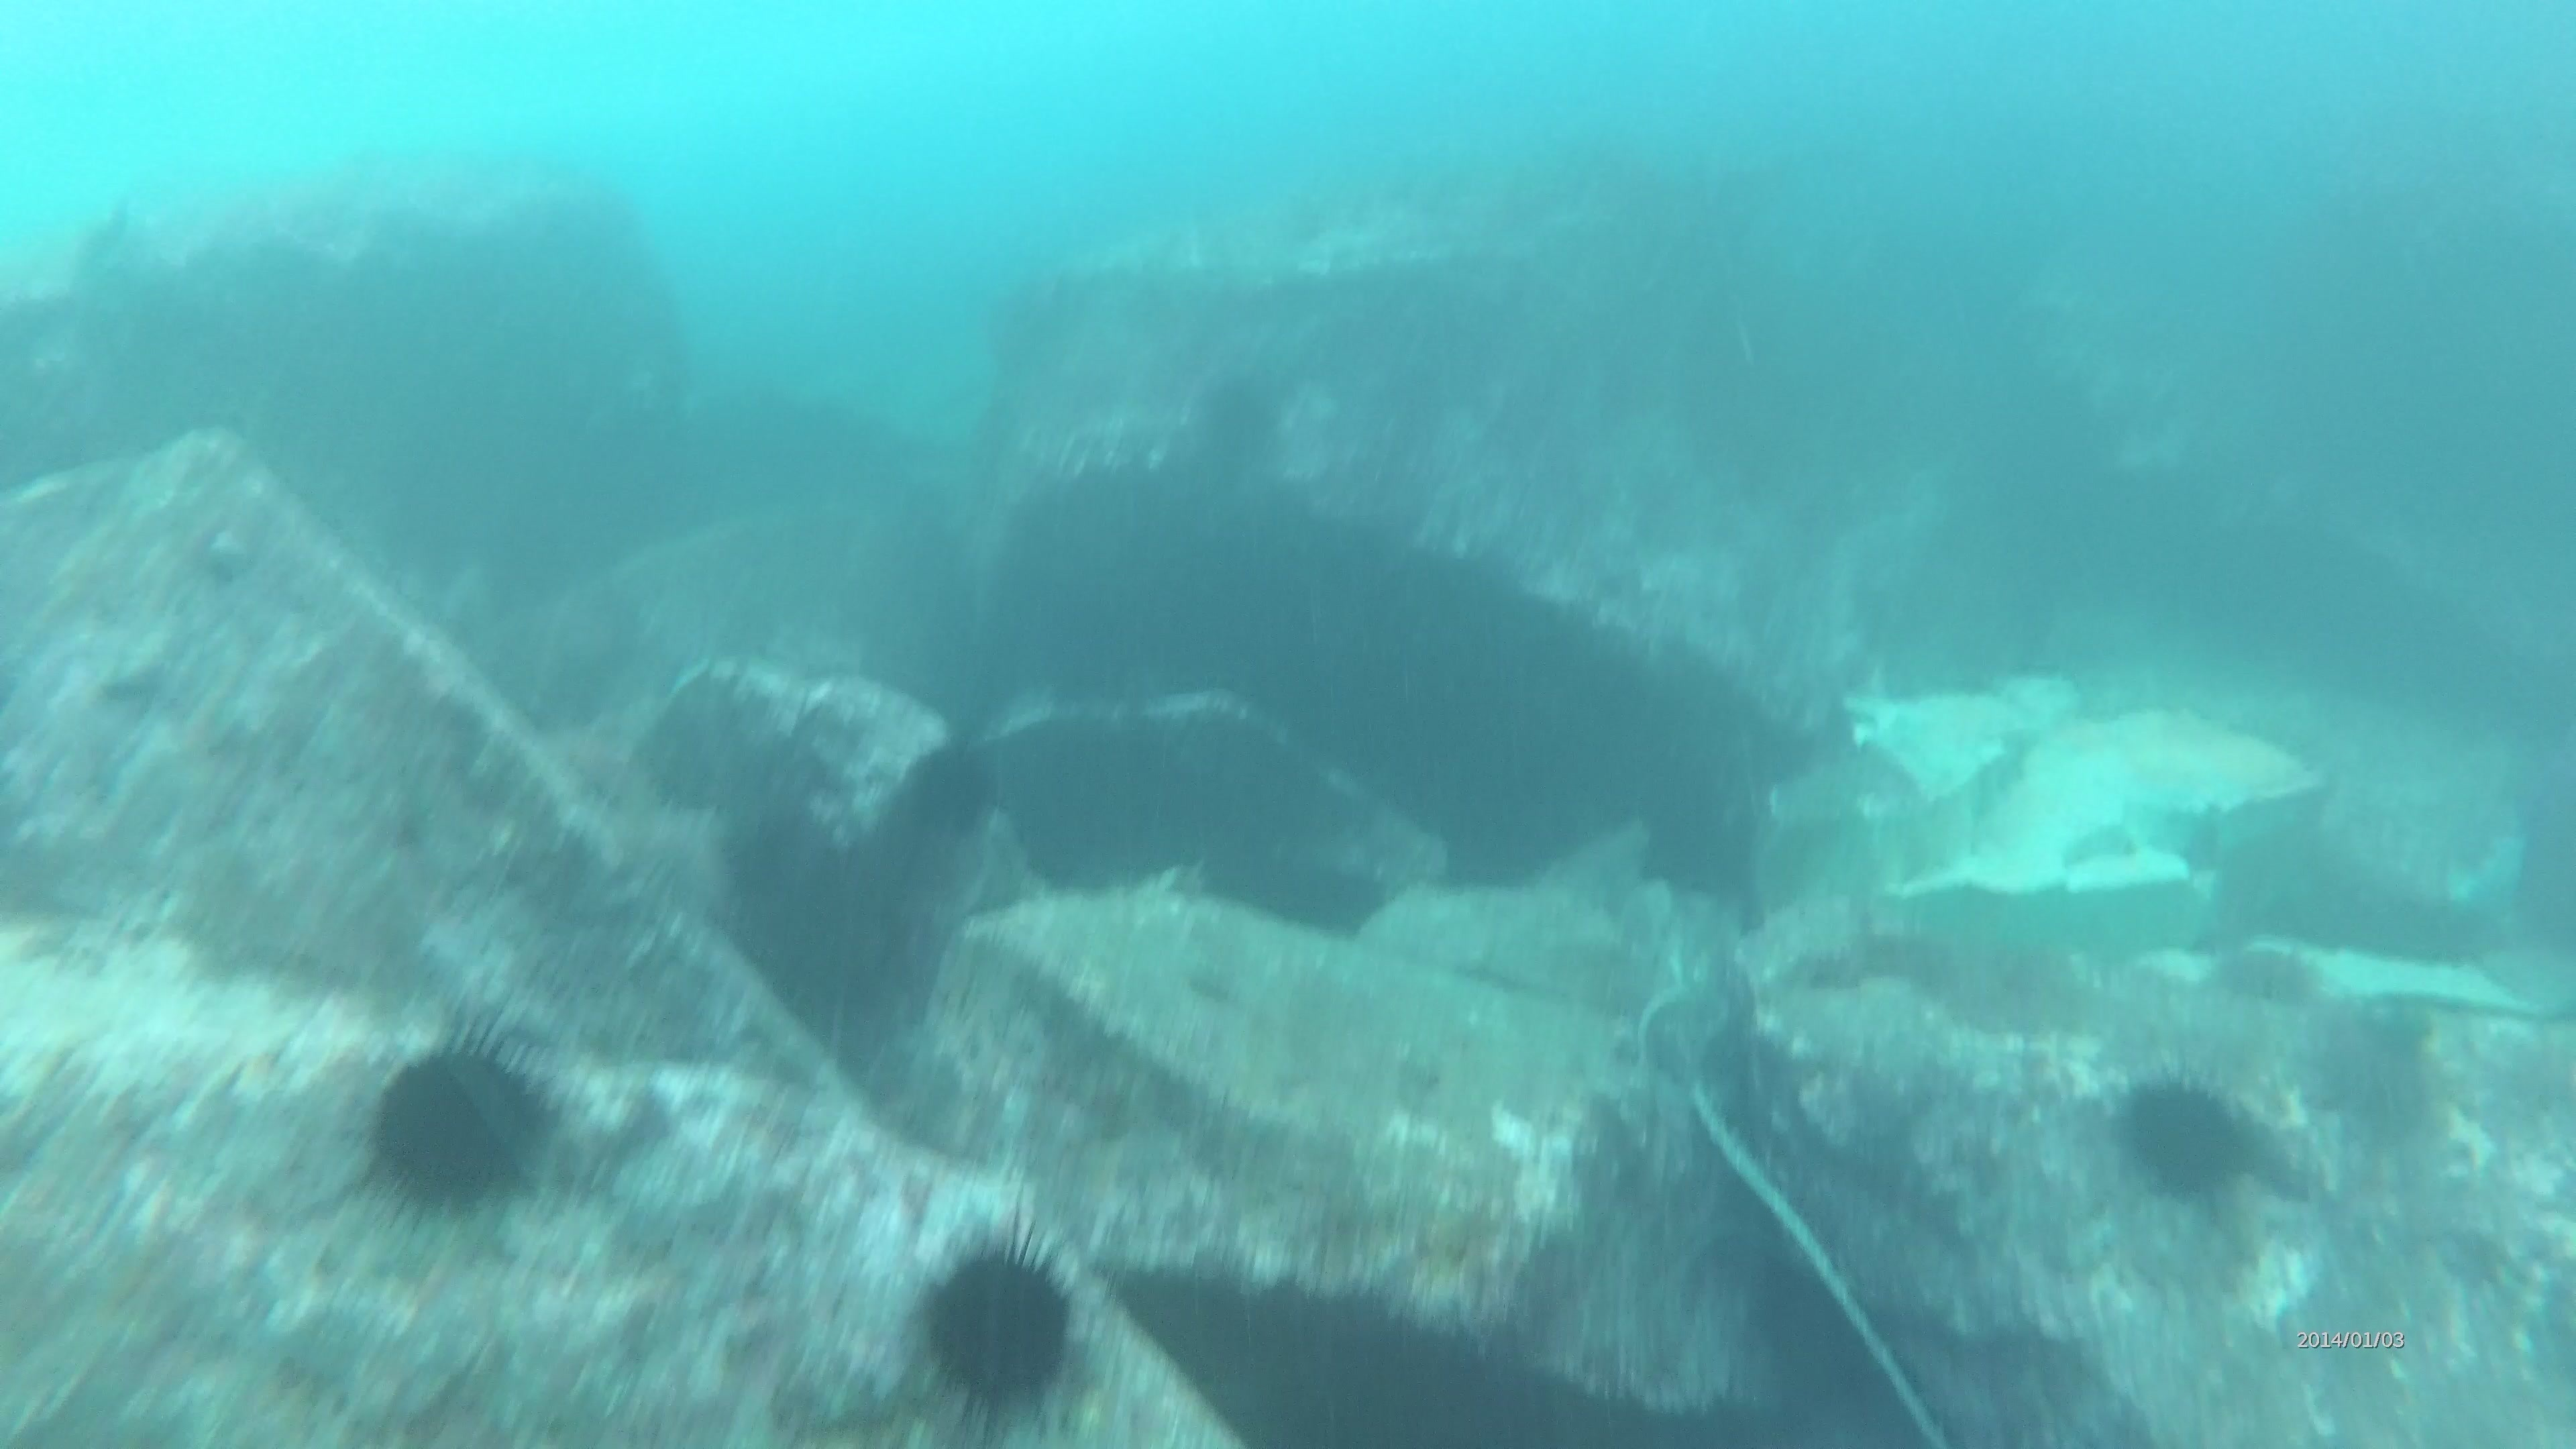echinus: (352, 1019, 564, 1224), (901, 1217, 1093, 1426), (2107, 1065, 2265, 1208), (895, 732, 1005, 847), (1189, 372, 1316, 467)
